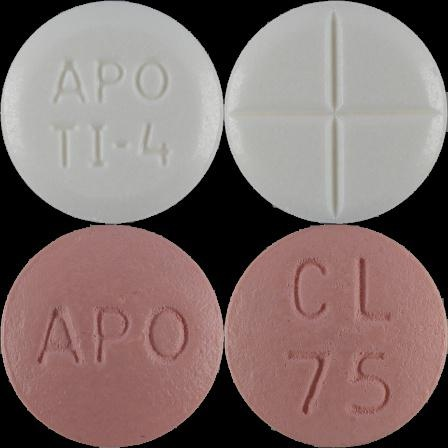60505-0252: (0, 0, 224, 224)
